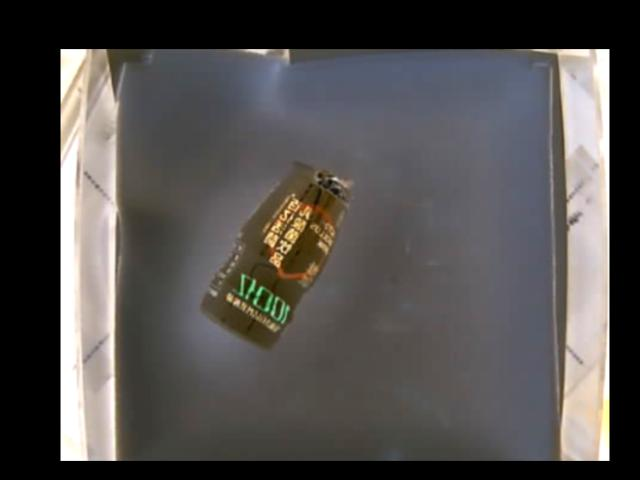Bottle: (198, 164, 355, 353)
